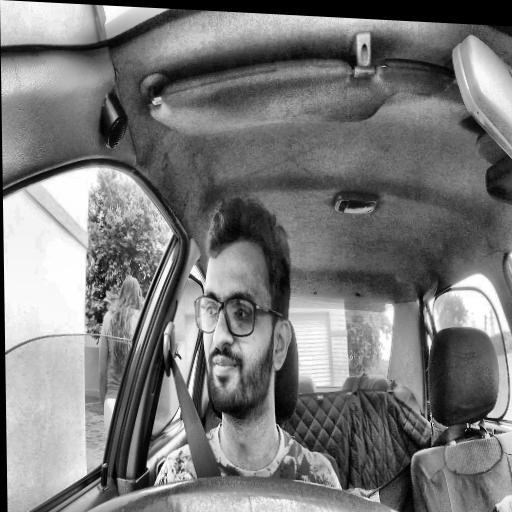awake: (192, 193, 294, 420)
